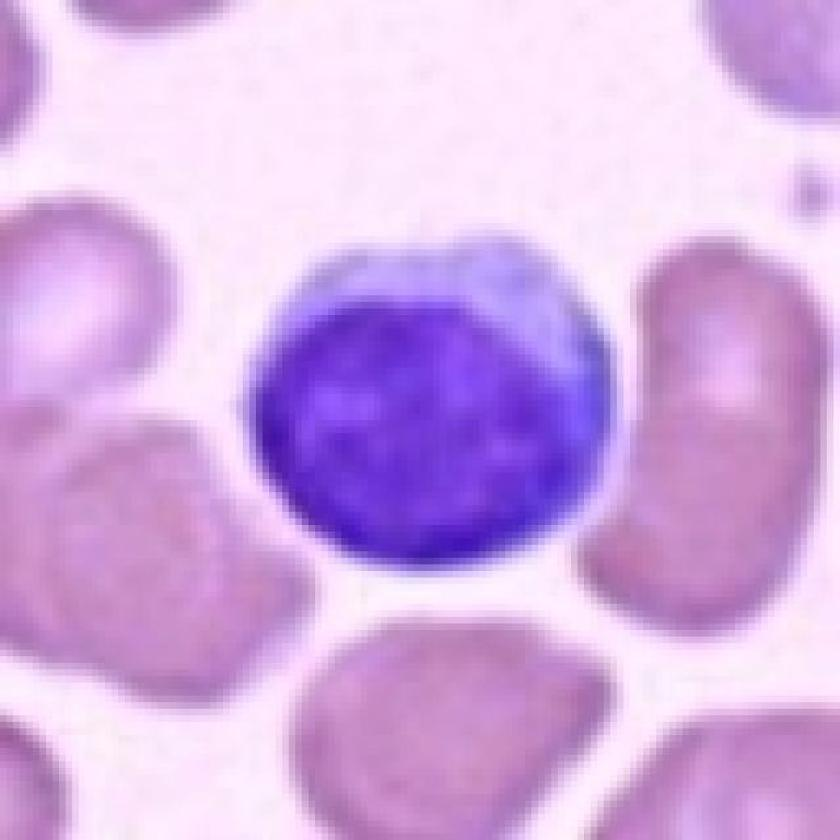lymphocyte: (225, 220, 631, 573)
